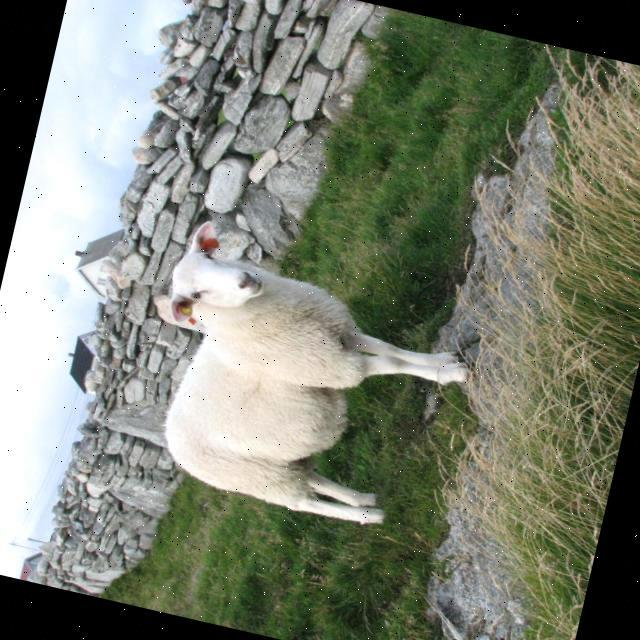sheep: (159, 223, 464, 515)
